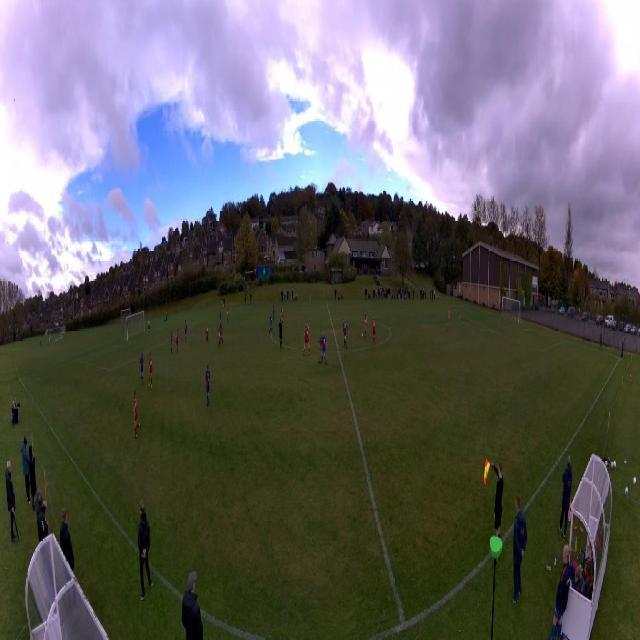ball: (362, 333, 364, 338)
player: (132, 388, 142, 440), (317, 333, 328, 364), (205, 363, 211, 407), (303, 324, 311, 355), (343, 317, 349, 347), (278, 320, 283, 350), (148, 354, 152, 388), (140, 353, 144, 384), (372, 317, 376, 344), (363, 311, 367, 337), (269, 311, 273, 336), (217, 323, 221, 348), (220, 324, 224, 345), (280, 306, 284, 326), (447, 307, 451, 326), (175, 328, 178, 353), (205, 326, 209, 344), (184, 319, 187, 343), (273, 302, 276, 321), (226, 306, 229, 323), (171, 329, 173, 354), (148, 319, 151, 335), (219, 308, 221, 323)
